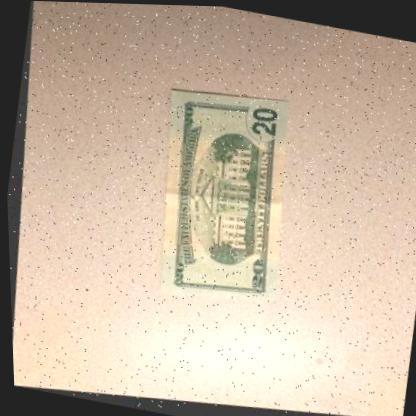twenty-back: (136, 80, 303, 315)
